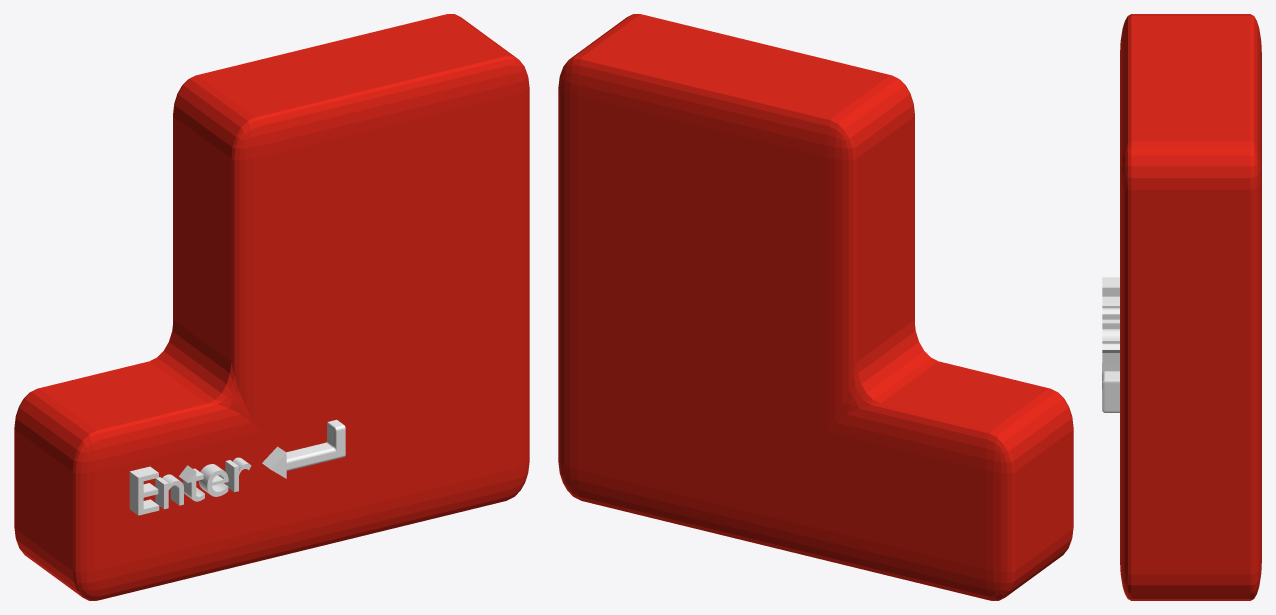
The model's file is enter.glb.
3 renders of one model, left to right at view 1: azimuth 30°, elevation 25°; view 2: azimuth 150°, elevation 25°; view 3: azimuth 270°, elevation 25°, orthographic. The views are drawn at different scales.
Visible parts, largest first — view 1: Cube, Text, Cube.001; view 2: Cube; view 3: Cube, Text, Cube.001.
Part boxes in pixels (bbox=[...]): Cube: bbox=[14, 14, 529, 600]; Text: bbox=[129, 457, 251, 515]; Cube.001: bbox=[286, 419, 345, 470]; Cube: bbox=[558, 14, 1073, 600]; Cube: bbox=[1120, 14, 1261, 600]; Text: bbox=[1102, 277, 1119, 362]; Cube.001: bbox=[1102, 371, 1119, 412].
Size of the model in its own units: 3.07 by 2.86 by 0.9034.
